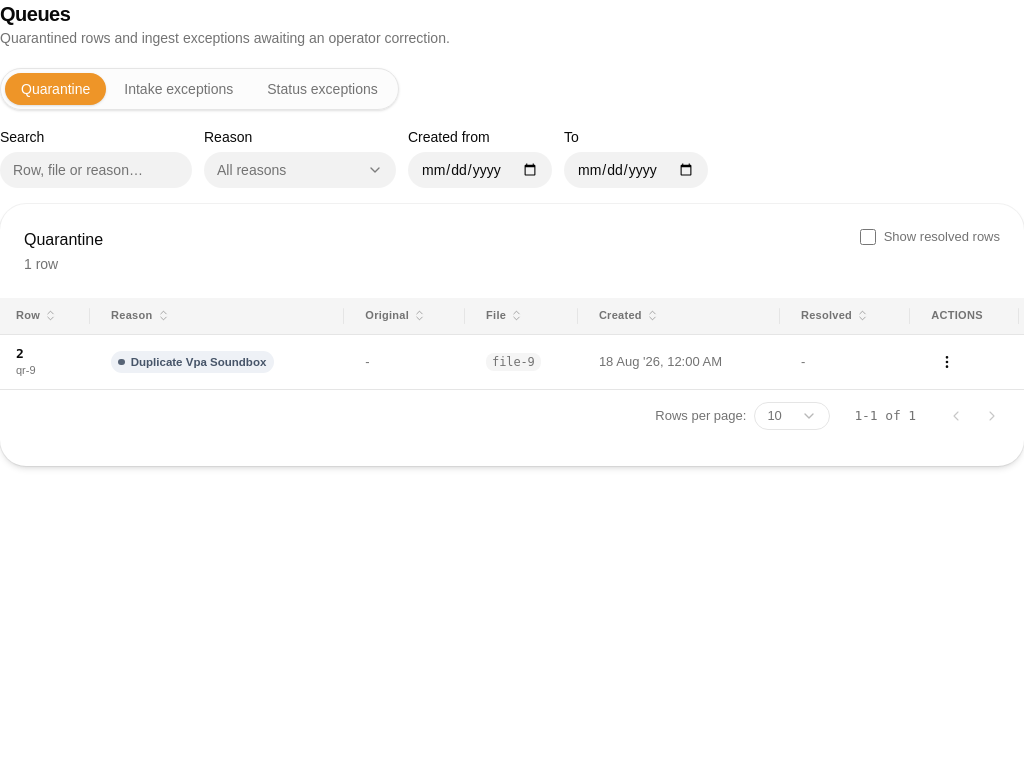
Test: QueuesPage › keeps the dialog open and says so when the server refuses the correction (cured false)
The image size is (1024, 768).
Expected: the text "file-9" is shown, [486,352,541,370]
Click the button named "Actions for quarantine row qr-9": coordinates (947, 362) [931,346,963,378]
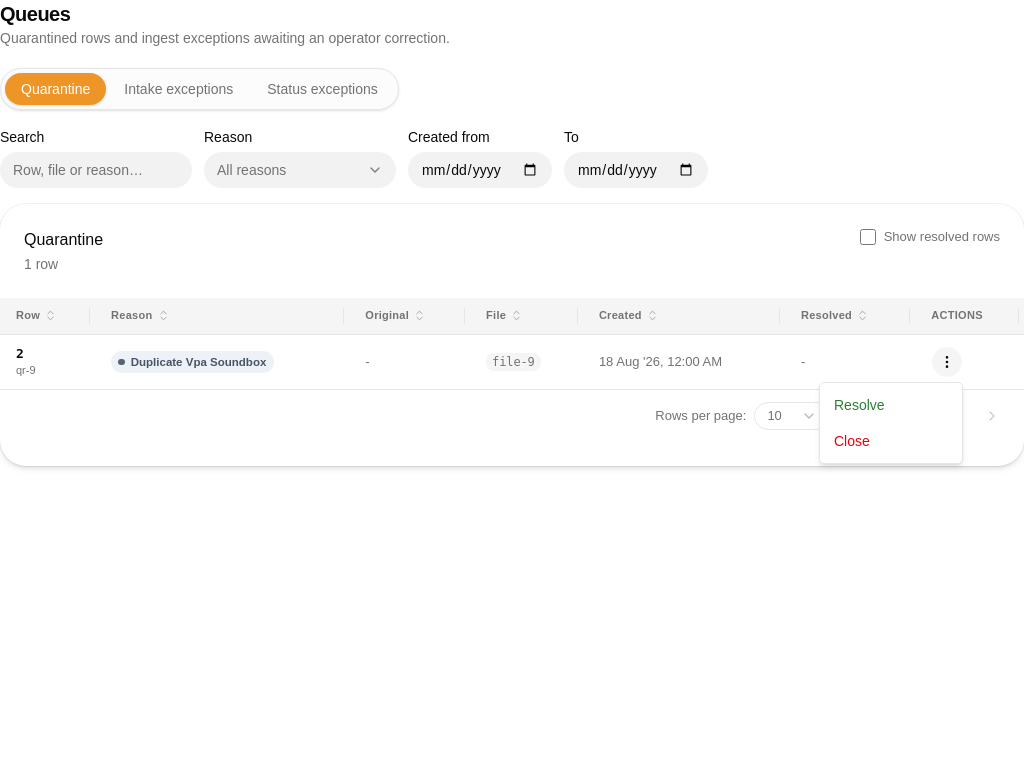
Click the menu item with aria-label "resolve quarantine row qr-9": coordinates (859, 405) [834,397,885,413]
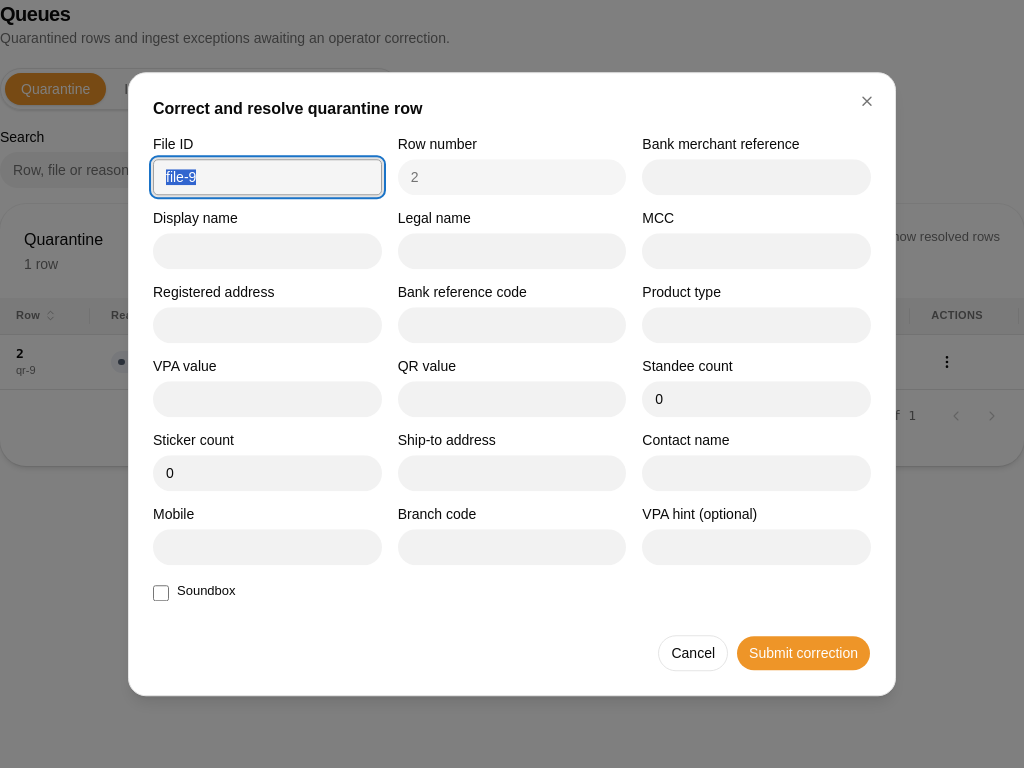
Click the button "Submit correction": coordinates (804, 653) [736,635,871,671]
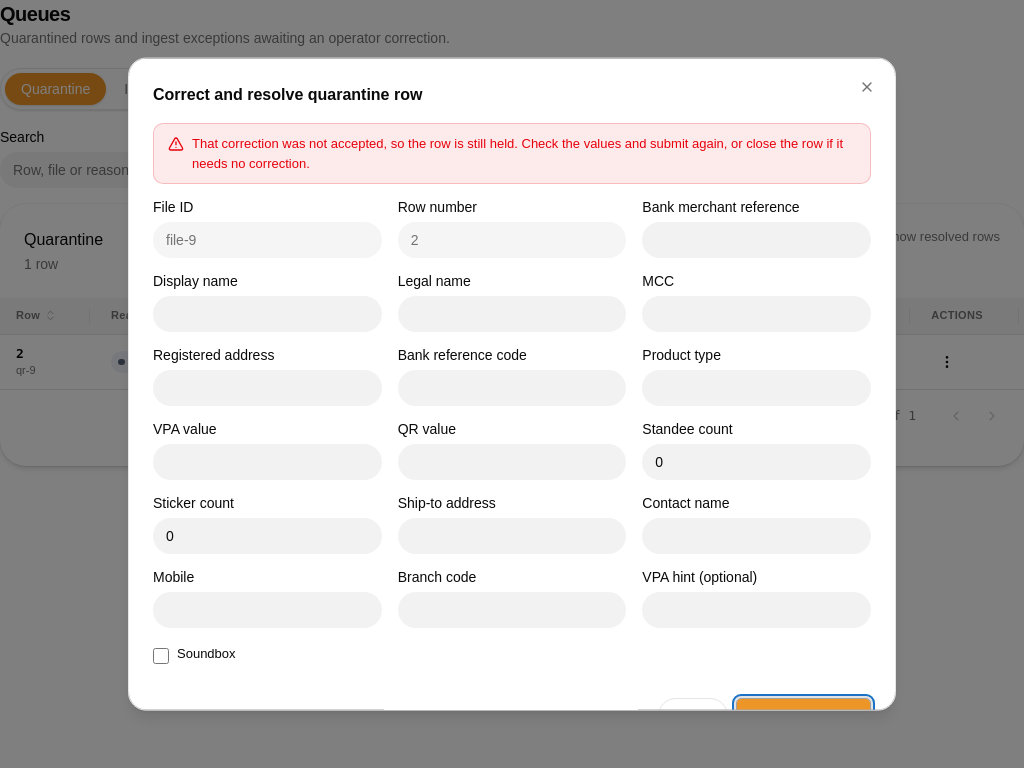
Expected: the text "still held" is shown, [192,136,843,170]
